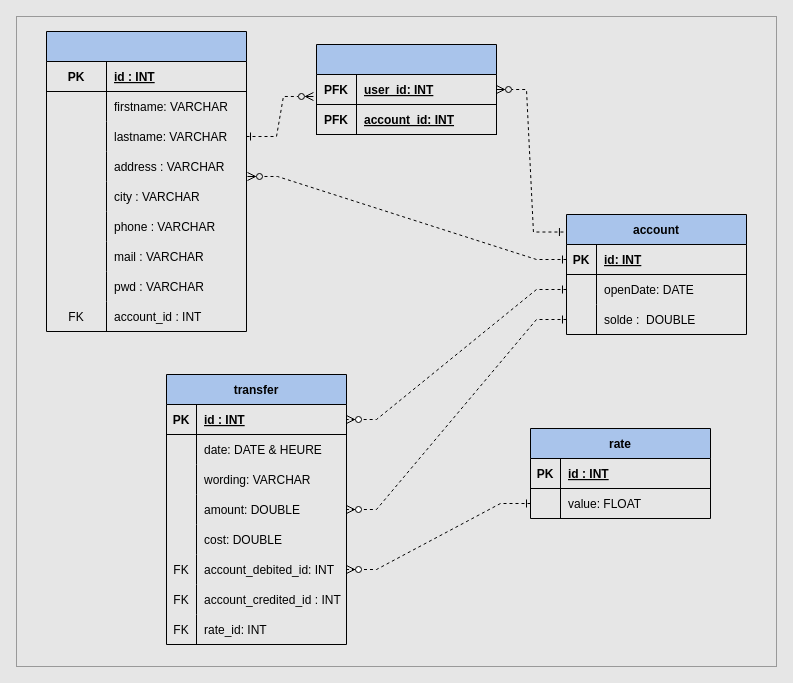
Image size: 793x683. Some labels were removed from this diagram. The shapes that lost their labels are listed below. From the top down, each one's box as (x1, y1, x2, y2) in pixels, then its label:
(316, 44, 496, 134): user_account
(46, 30, 246, 332): user
